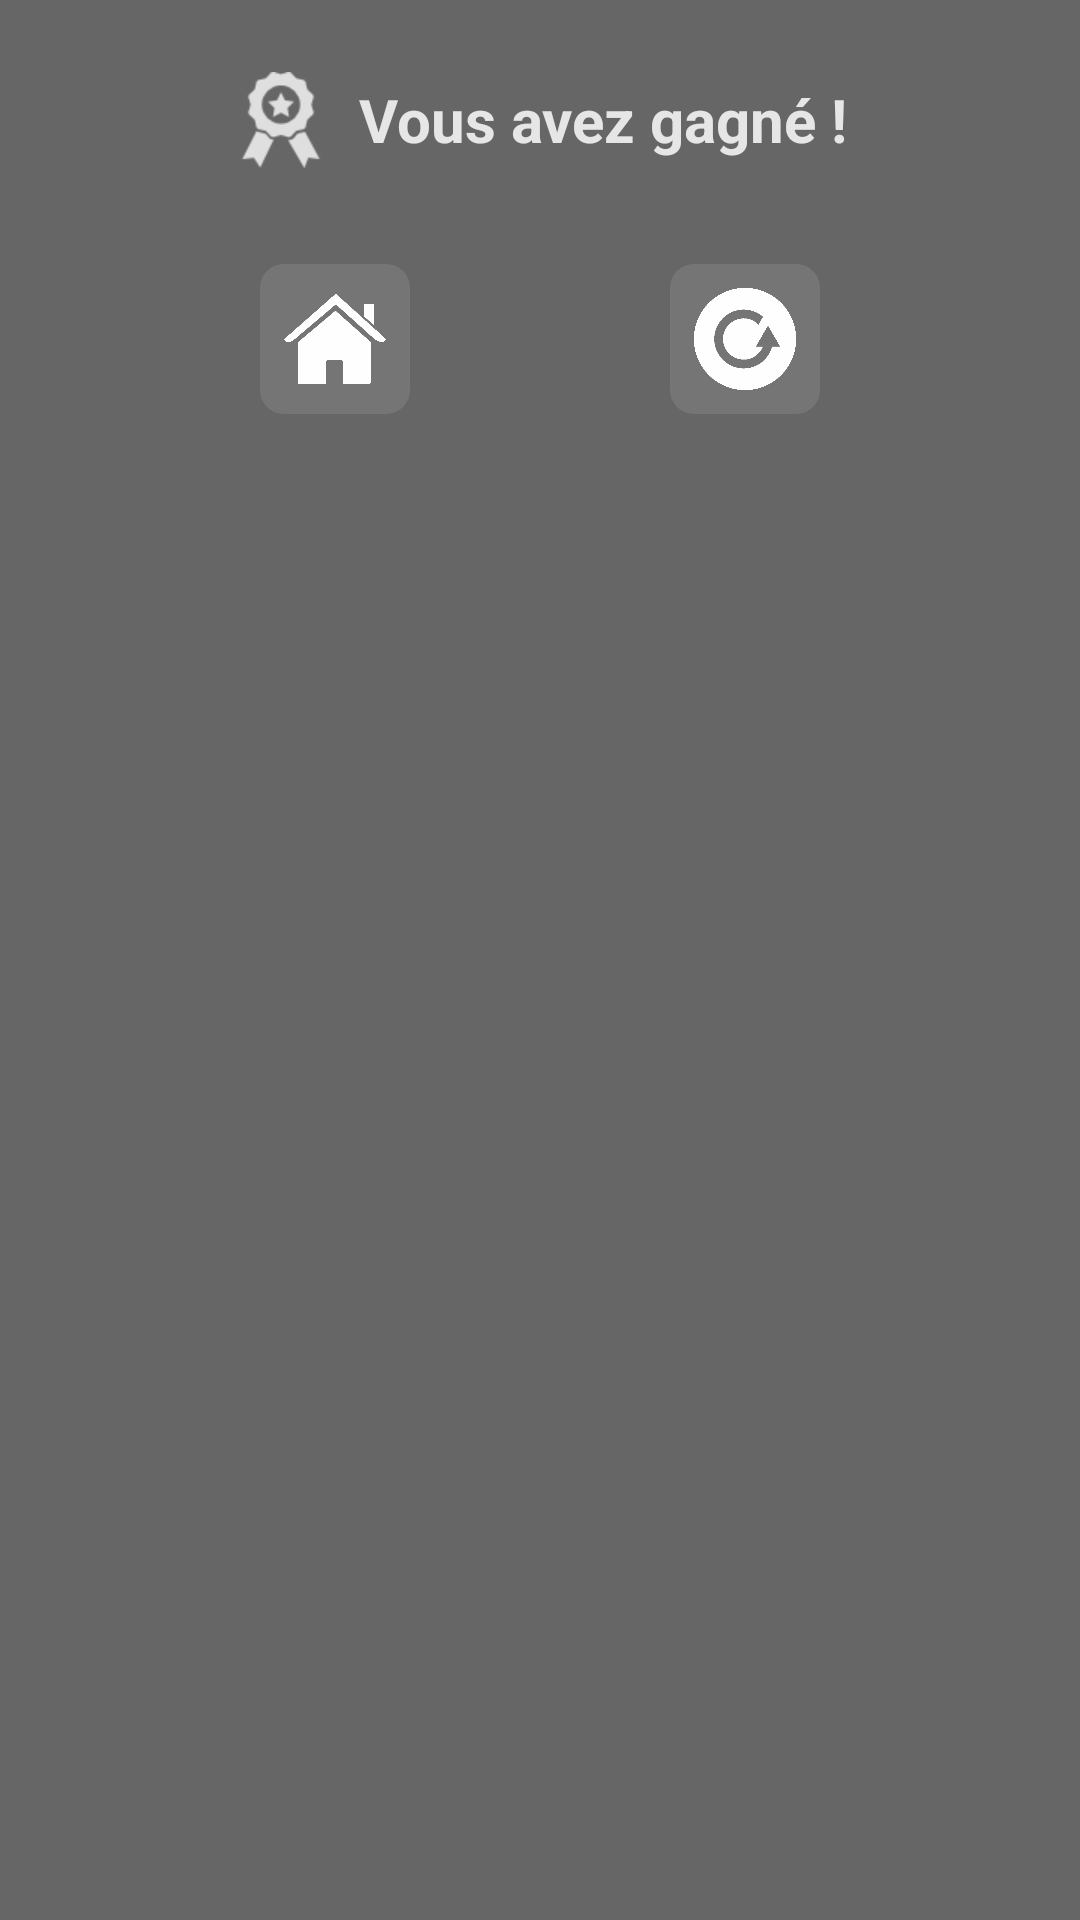

Named icons in this screenshot (1080w x 1920h) and their bounding boxes, bbox=(x1, y1, x2, y2):
home: bbox=(284, 294, 386, 384)
replay: bbox=(694, 288, 796, 390)
win: bbox=(242, 72, 320, 168)
